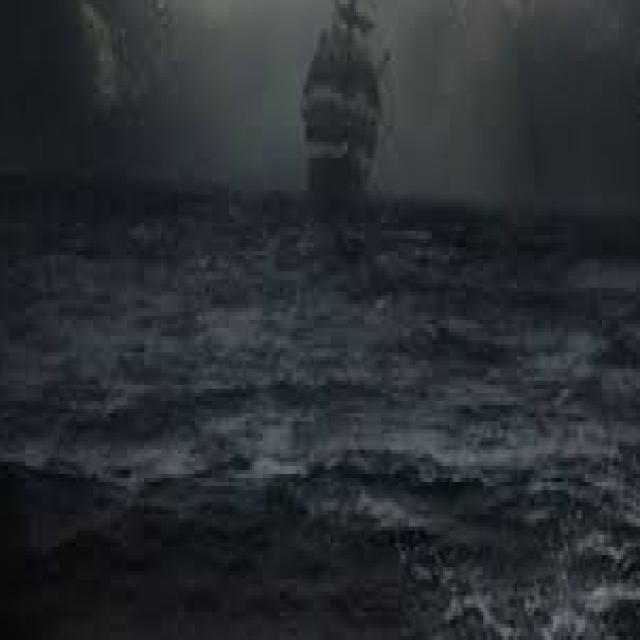navalvessels: (288, 6, 396, 224)
